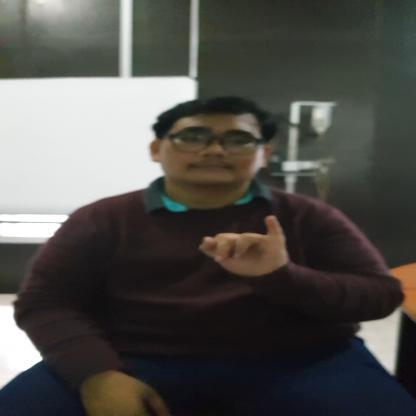I: (197, 211, 290, 276)
